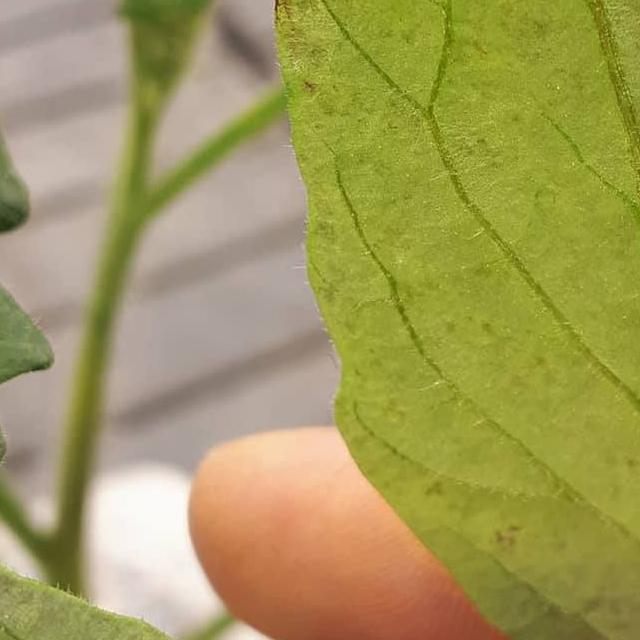Tomato mold leaf: (242, 0, 640, 640)
